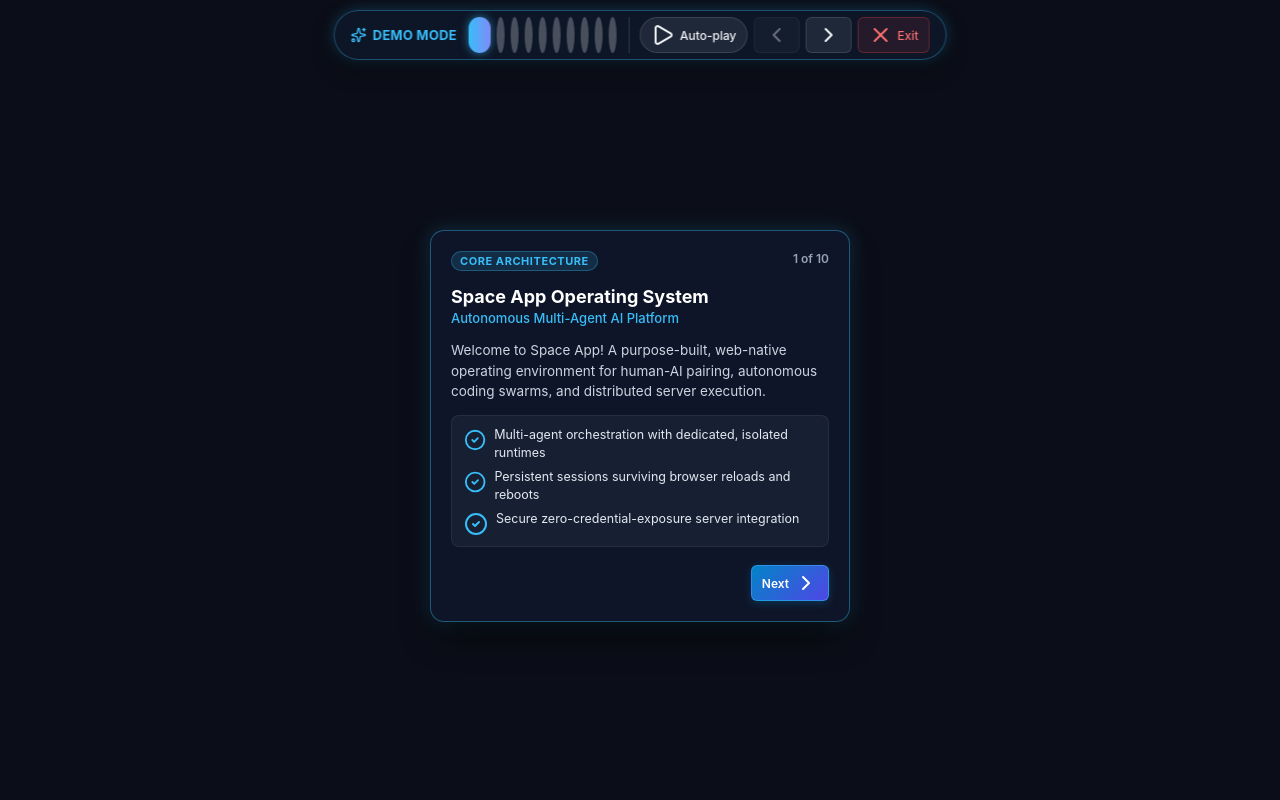
Test: DemoModeOverlay › advances to next step and returns to previous step
expect the text "1 of 10" is shown: met, box [793,251,829,266]
expect the heading "Space App Operating System" is shown: met, box [451,286,709,307]
Click the button named "Next".
click(828, 35)  # box [805,17,851,53]
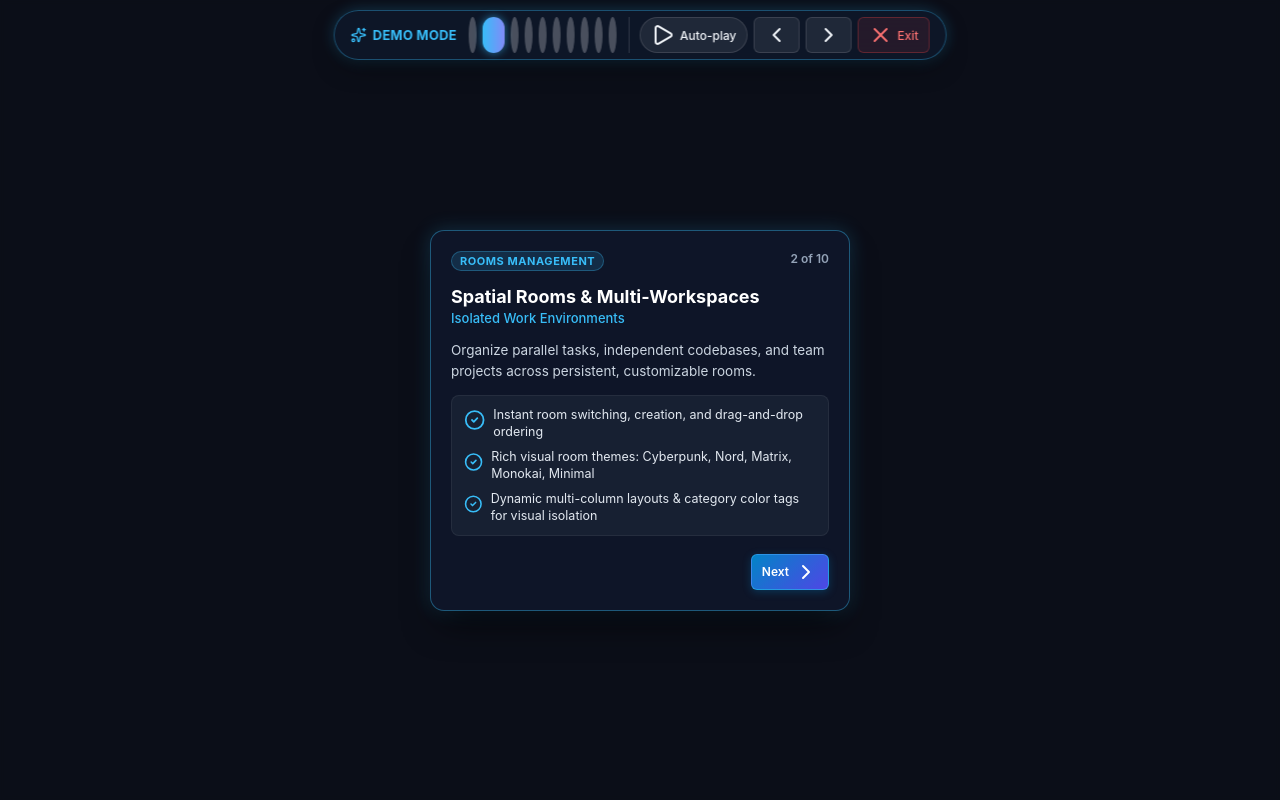
expect the text "2 of 10" is shown: met, box [790,251,829,266]
expect the heading "Spatial Rooms & Multi-Workspaces" is shown: met, box [451,286,760,307]
Click the button named "Previous Step".
click(776, 35)  # box [753,17,799,53]
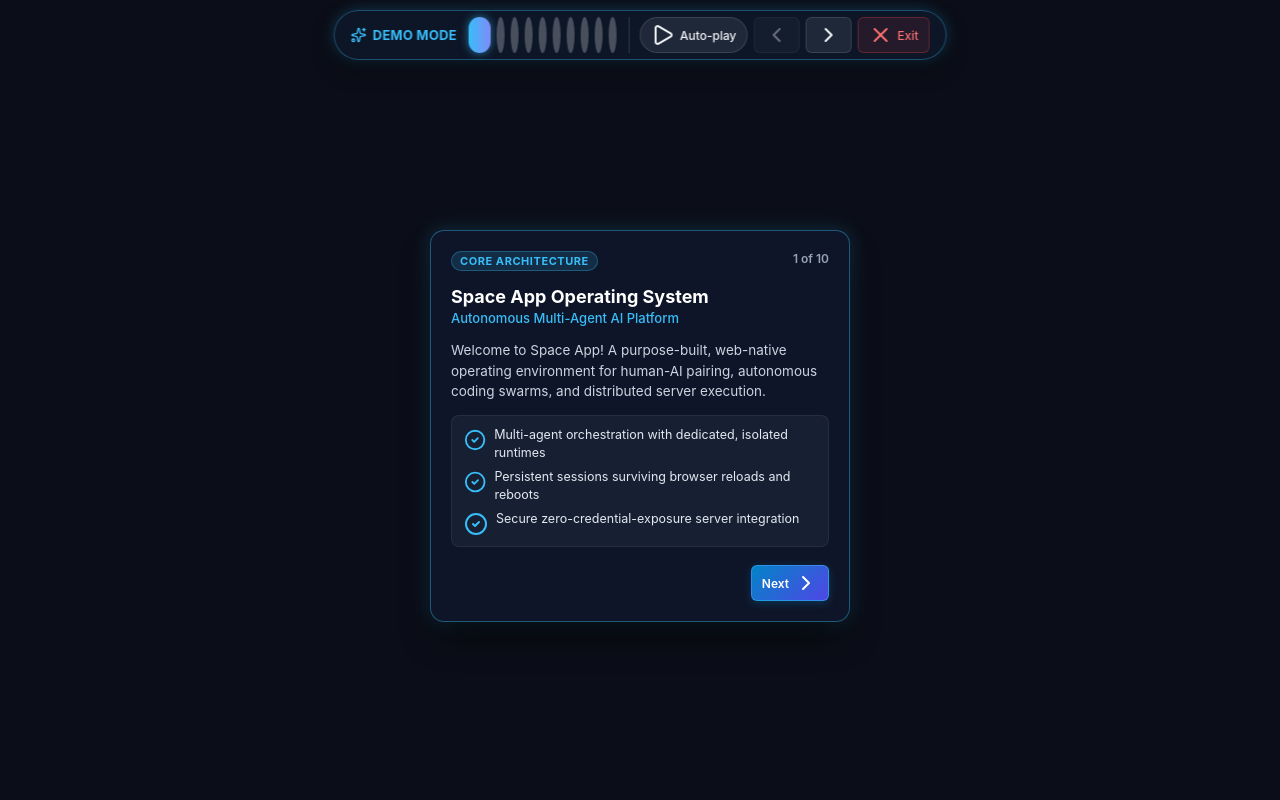
expect the text "1 of 10" is shown: met, box [793,251,829,266]
expect the heading "Space App Operating System" is shown: met, box [451,286,709,307]
